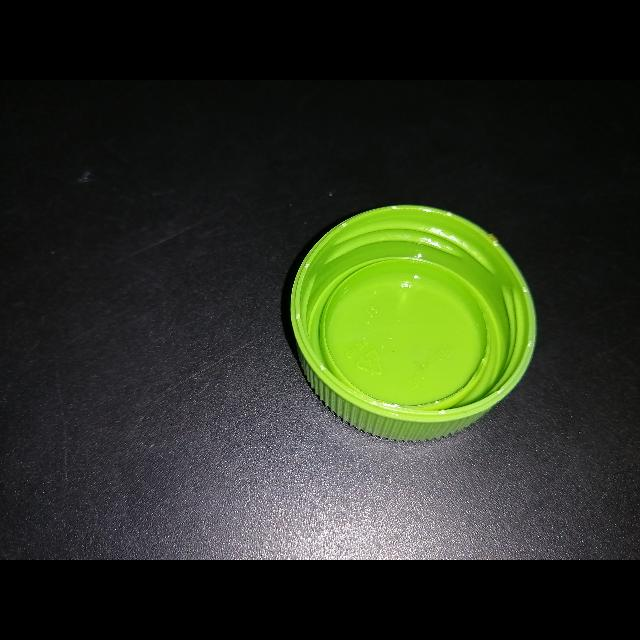plastic_bottle_cap: (288, 202, 538, 444)
